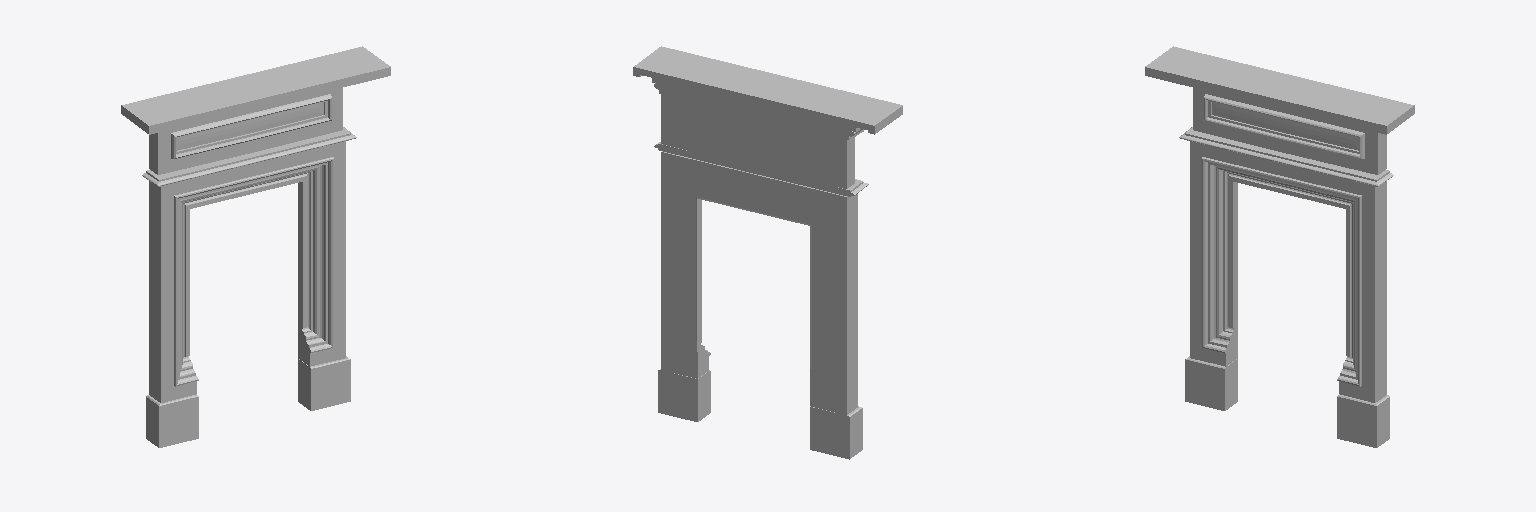
File: door.obj
3 views of the same model, side by side, from view 1: azimuth 30°, elevation 25°; view 2: azimuth 150°, elevation 25°; view 3: azimuth 330°, elevation 25° (orthographic).
Visible parts, largest first — view 1: Box001; view 2: Box001; view 3: Box001.
Part boxes in pixels (x1,y1,x2,y2): Box001: (121, 46, 390, 447); Box001: (633, 46, 902, 459); Box001: (1145, 46, 1414, 447).
Bounding box in the file's own units: 54.15 × 72.62 × 10.98.